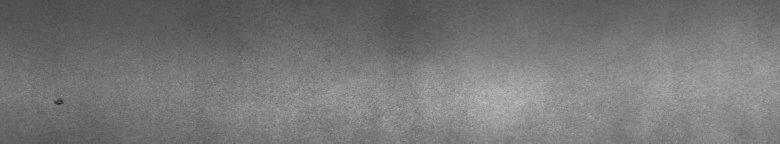fi: (44, 92, 68, 110)
